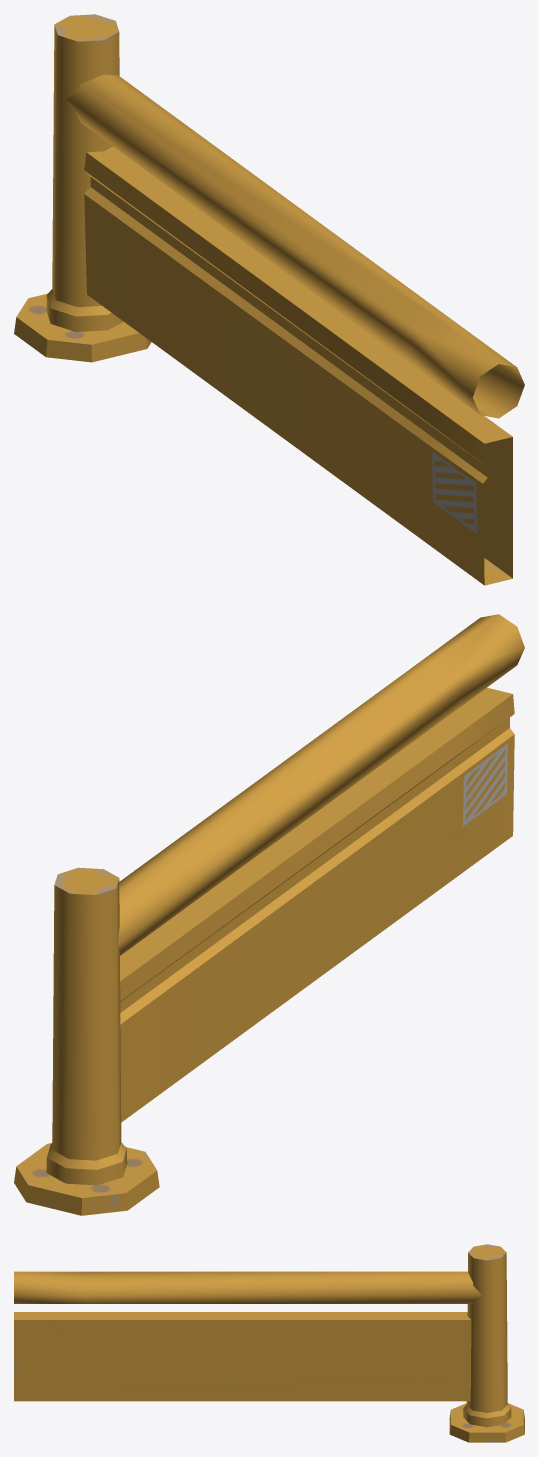
File: Pfb_Factory_Fence__2.fbx
3 renders of one model, top to bottom at view 1: azimuth 30°, elevation 25°; view 2: azimuth 150°, elevation 25°; view 3: azimuth 270°, elevation 25°, orthographic. The views are drawn at different scales.
Visible parts, largest first — view 1: MAT_Soda_Pipe 1; view 2: MAT_Soda_Pipe 1; view 3: MAT_Soda_Pipe 1.
Boxes of the visible parts, x1,y1,x2,y2 form: MAT_Soda_Pipe 1: (14, 14, 524, 585); MAT_Soda_Pipe 1: (14, 614, 524, 1215); MAT_Soda_Pipe 1: (14, 1244, 524, 1442).
Size of the model in its own units: 0.3186 by 0.8132 by 2.16.
Materials: 1 (1 with a texture image).
